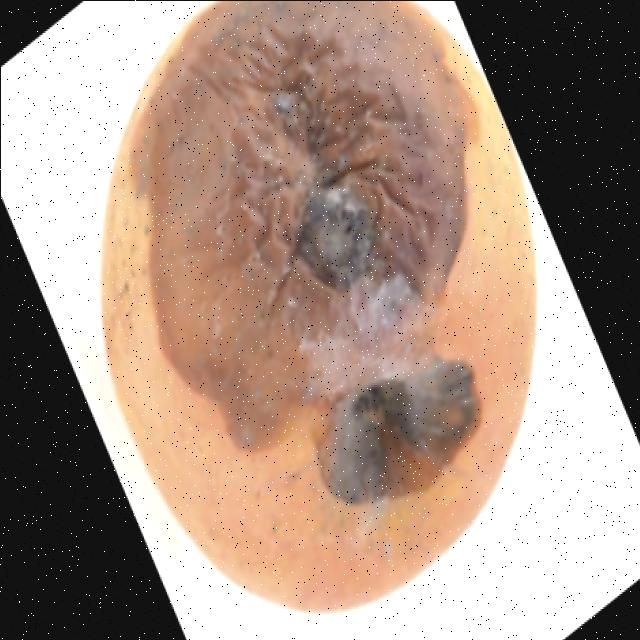Rotten: (94, 0, 546, 617)
